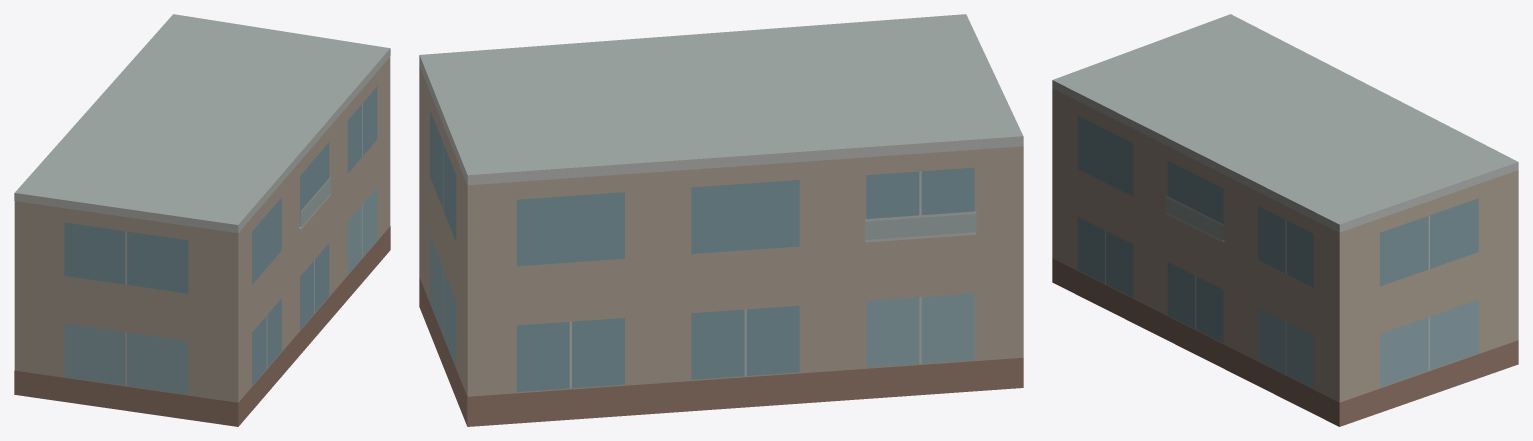
File: survey-upis-32771631.glb
3 renders of one model, left to right at view 1: azimuth 30°, elevation 25°; view 2: azimuth 150°, elevation 25°; view 3: azimuth 270°, elevation 25°, orthographic. The views are drawn at different scales.
Parts seen in each view (by area): view 1: survey-upis-32771631.tmp; view 2: survey-upis-32771631.tmp; view 3: survey-upis-32771631.tmp.
Part boxes in pixels (x1,y1,x2,y2): survey-upis-32771631.tmp: (14,14,390,426); survey-upis-32771631.tmp: (419,14,1023,426); survey-upis-32771631.tmp: (1052,14,1518,426).
Size of the model in its own units: 13.62 by 6.1 by 12.75.
